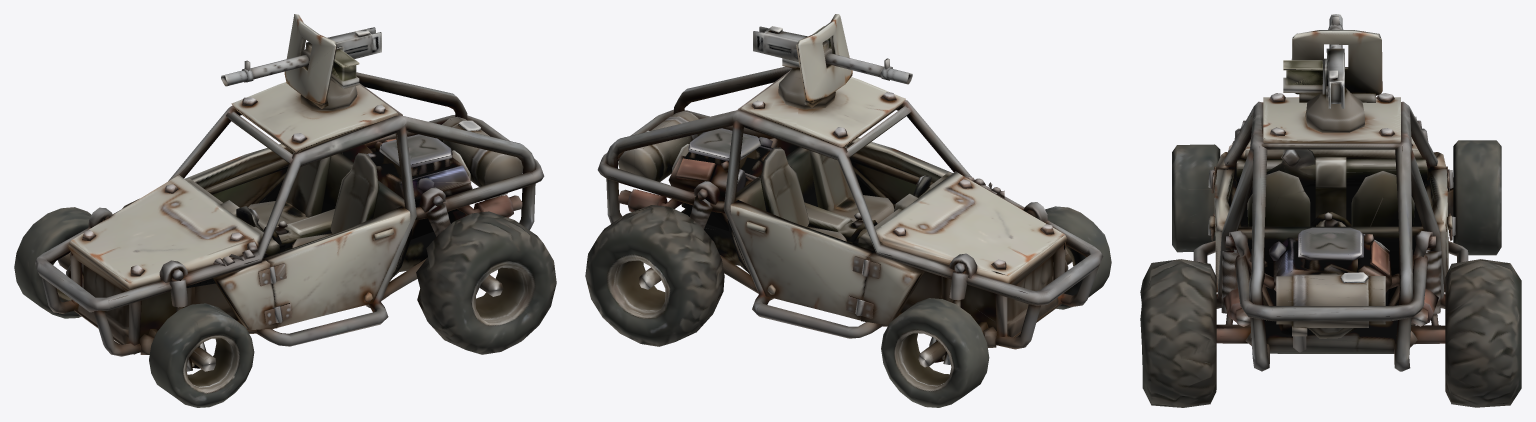
The model's file is Car_Small.glb.
The picture shows the model from 3 angles, left to right: view 1: azimuth 30°, elevation 25°; view 2: azimuth 150°, elevation 25°; view 3: azimuth 270°, elevation 25°; orthographic projection. The views are drawn at different scales.
Visible parts, largest first — view 1: geometry_0; view 2: geometry_0; view 3: geometry_0.
Part boxes in pixels (x1=…): geometry_0: x1=14, y1=14, x2=556, y2=407; geometry_0: x1=585, y1=14, x2=1111, y2=407; geometry_0: x1=1140, y1=14, x2=1521, y2=407.
Bounding box in the file's own units: 0.9536 × 0.5869 × 0.6401.
1 material, 1 textured.
